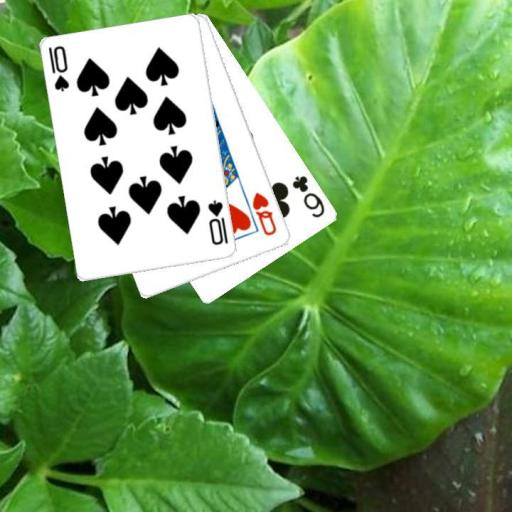10S: (46, 43, 71, 94), (205, 197, 230, 247)
6C: (290, 172, 327, 220)
QH: (249, 189, 279, 238)
